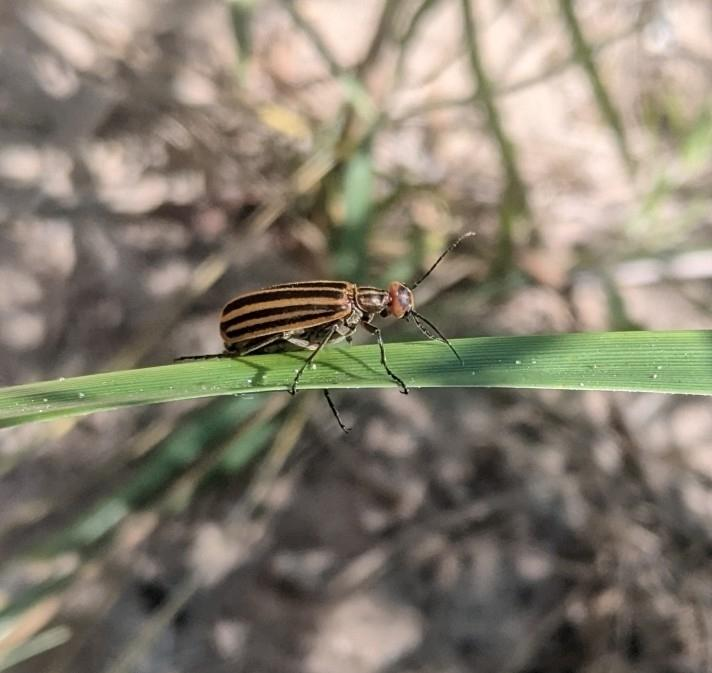blister_beetle: (171, 172, 512, 441)
